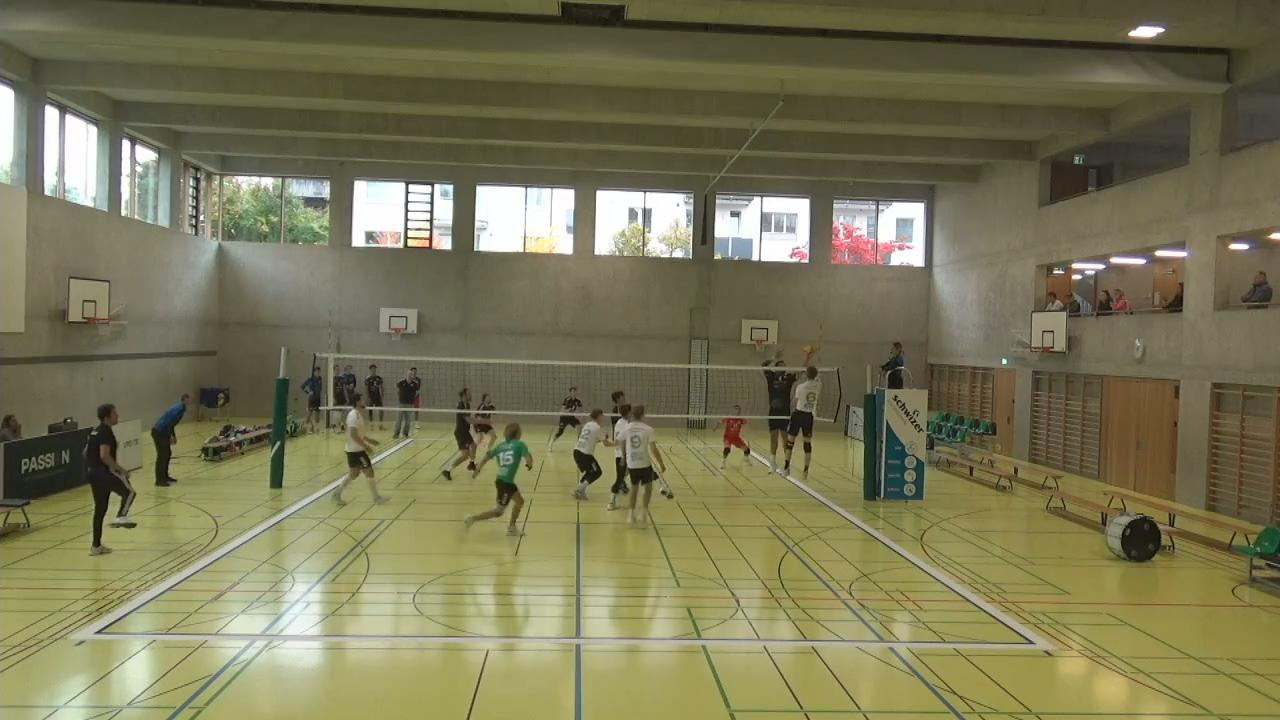Attack: (784, 348, 831, 482)
Block: (757, 341, 798, 478)
Player: (464, 423, 533, 543), (614, 400, 659, 526), (336, 391, 384, 505), (565, 403, 610, 502), (593, 396, 630, 509), (440, 388, 479, 480), (715, 408, 758, 475), (549, 388, 586, 447), (472, 389, 496, 453)
ball: (801, 342, 817, 356)
